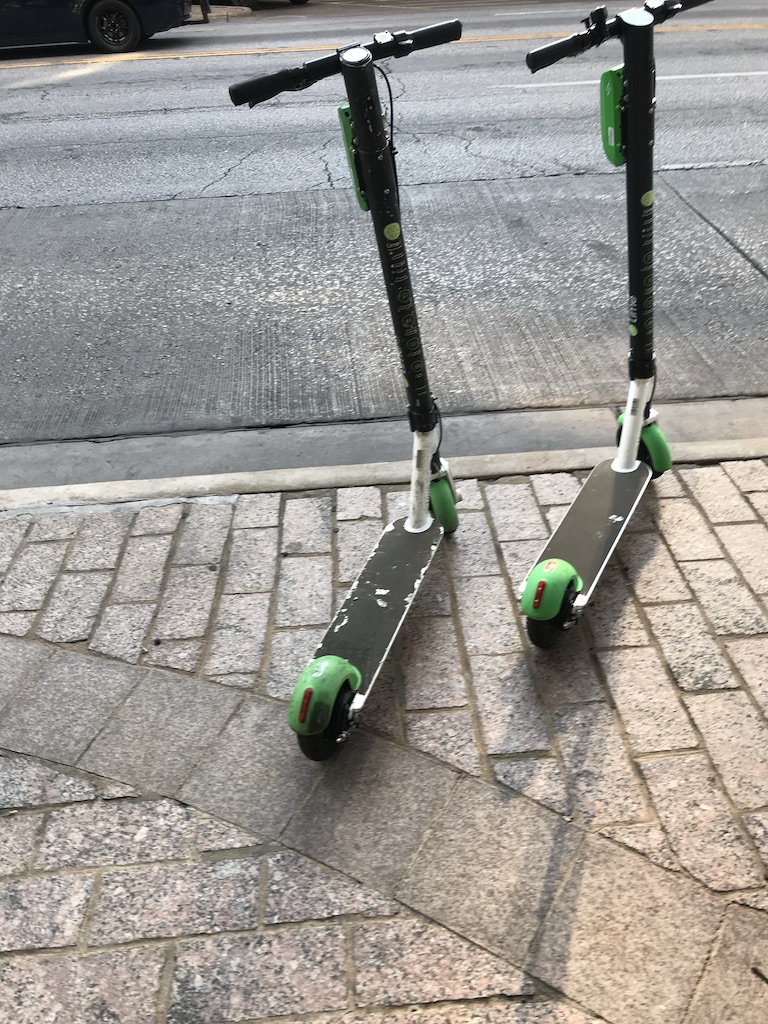scooter: (228, 17, 465, 764), (520, 3, 707, 654)
